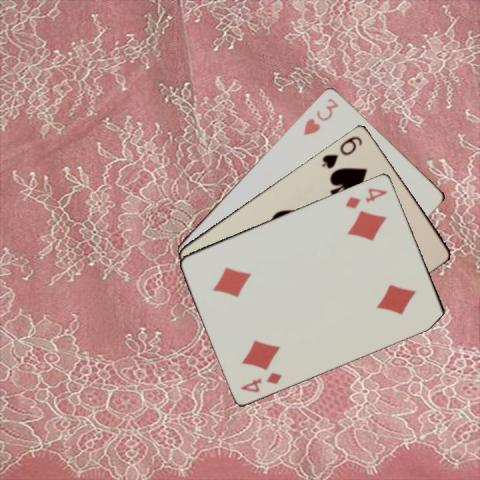3h: (300, 94, 340, 137)
4d: (342, 185, 389, 210), (237, 369, 284, 394)
6s: (319, 132, 364, 170)
